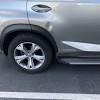doorouter-dent: (43, 20, 55, 33)
